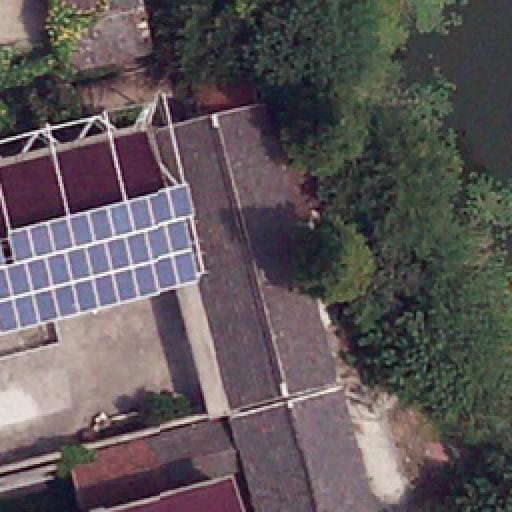solar-panel: (1, 183, 205, 349)
